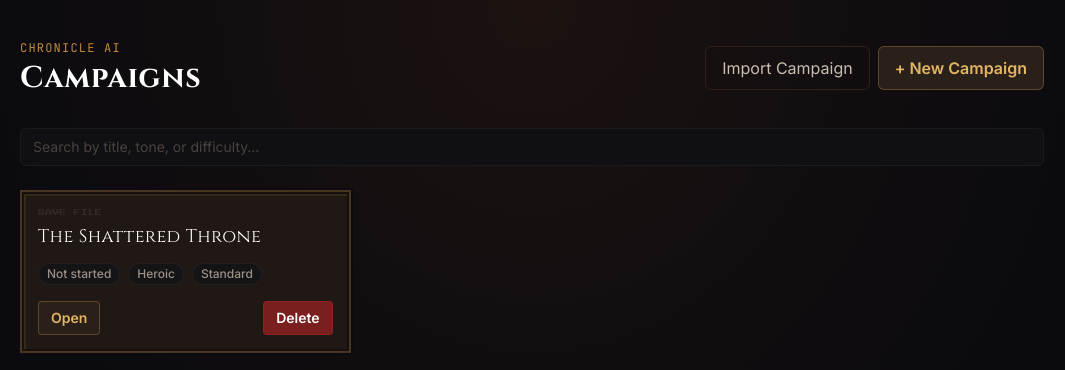
Test case: CampaignLibraryPage — search › shows a no-results message for an unmatched search
Expected: the heading "The Shattered Throne" is shown, x1=38 y1=224 x2=261 y2=248
Step 1. Type "zzz" into the field named "Search campaigns" → [532, 147], box x1=20 y1=128 x2=1044 y2=166
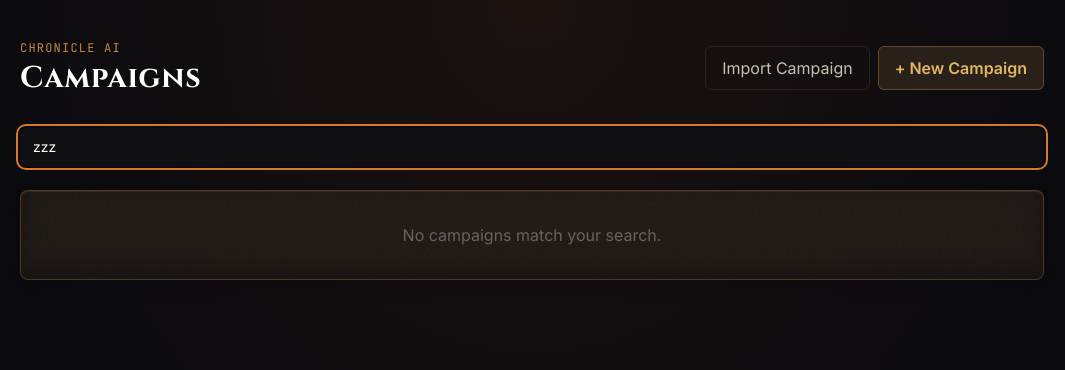
Expected: the text "No campaigns match your search." is shown, x1=403 y1=225 x2=661 y2=245
